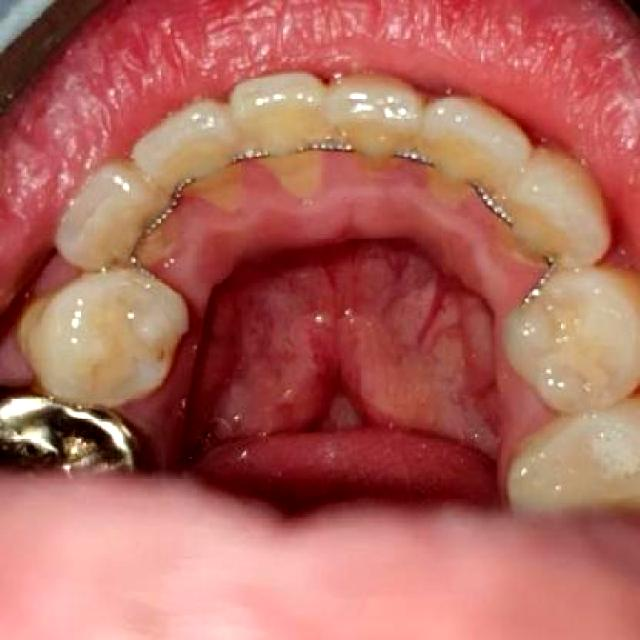Plaque: (150, 153, 544, 303), (28, 258, 78, 302), (147, 342, 171, 367)
